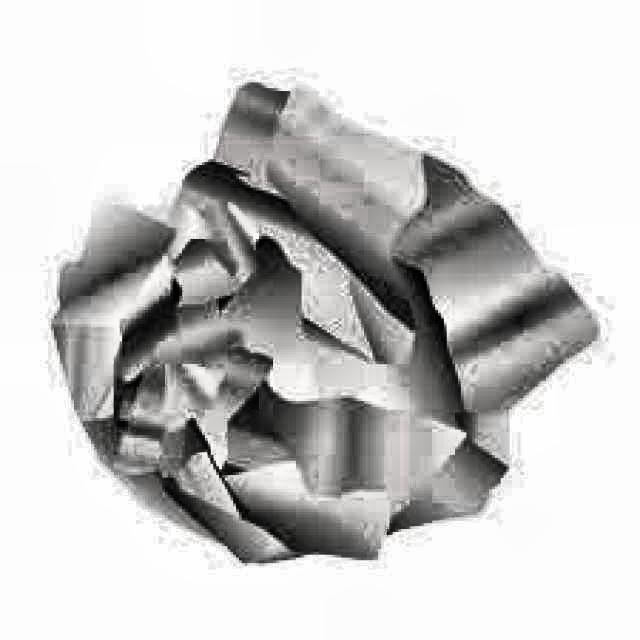Paper: (46, 80, 598, 563)
